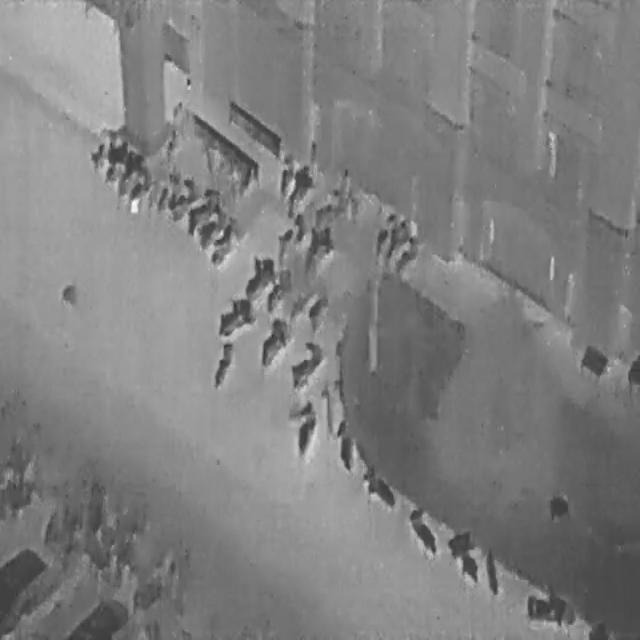Bicycle: (291, 215, 341, 285), (177, 179, 225, 240), (234, 244, 281, 305), (443, 522, 486, 588), (281, 332, 326, 393), (355, 457, 402, 515), (250, 312, 294, 373), (268, 206, 312, 262), (278, 159, 317, 221), (189, 198, 232, 254), (300, 276, 341, 332), (202, 214, 241, 268), (147, 161, 185, 215), (258, 262, 296, 316), (404, 502, 440, 558), (93, 132, 133, 182), (108, 142, 143, 198), (163, 172, 202, 222), (289, 393, 319, 458), (211, 292, 255, 336), (120, 160, 155, 215), (389, 226, 425, 279), (525, 588, 575, 626), (380, 212, 413, 262), (368, 205, 400, 255), (209, 336, 236, 390), (85, 128, 117, 170), (271, 149, 299, 196), (482, 544, 501, 598), (335, 417, 353, 472)
